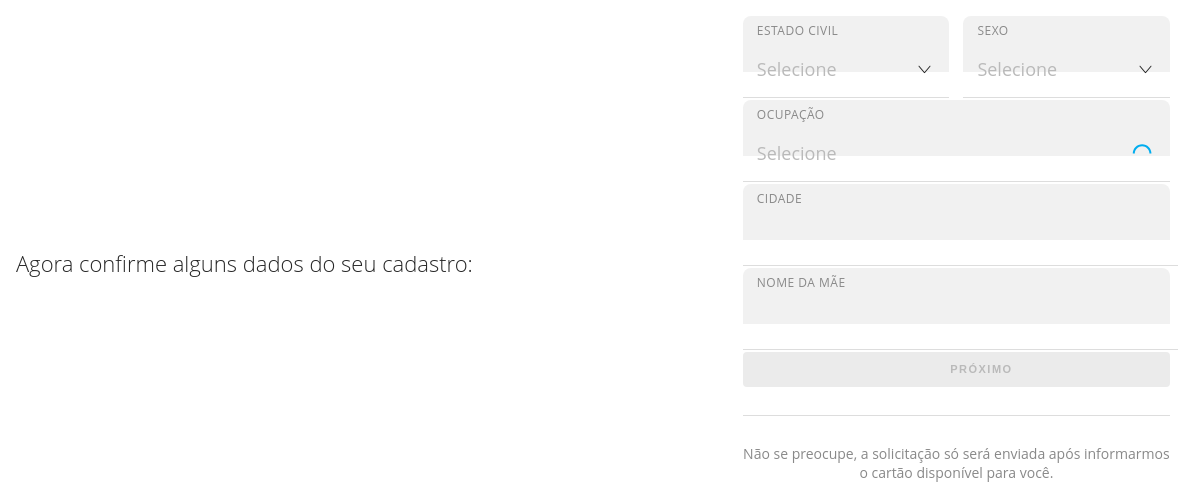
Test: Credit Card Step 3 › should sex select the proper option when clicked
The width and height of the screenshot is (1178, 499).
Step 1. Click the element with test id "select-sexo" → (1067, 44), box [963,16,1170,72]
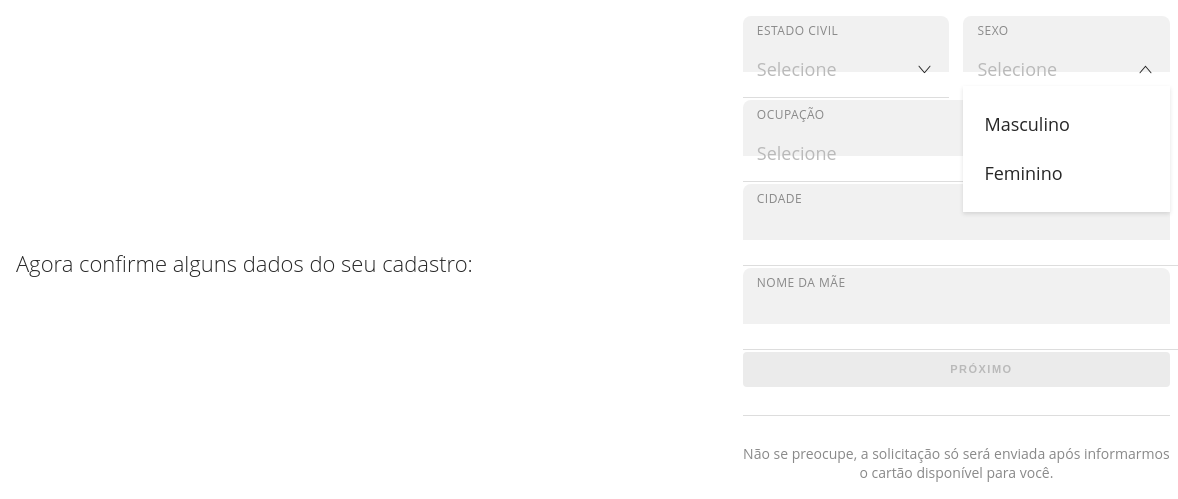
Step 2. Click the element with test id "option-Masculino" → (1067, 124), box [963,100,1170,149]
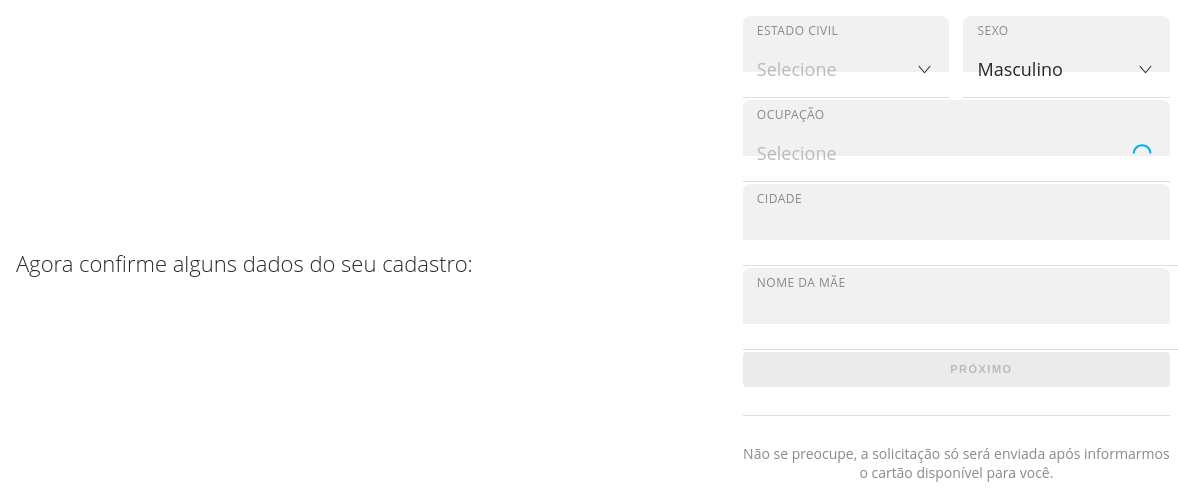
Expected: the field with test id "select-option-input-sex" holds "Masculino", [970,41,1135,97]
Step 3. Click the element with test id "select-sexo" → (1067, 44), box [963,16,1170,72]
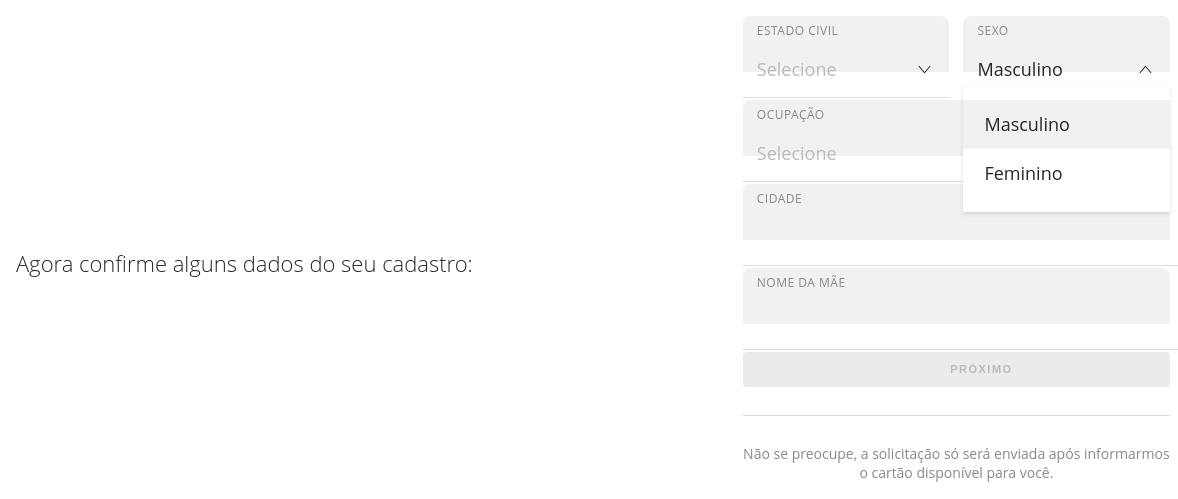
Step 4. Click the element with test id "option-Feminino" → (1067, 174), box [963,149,1170,198]
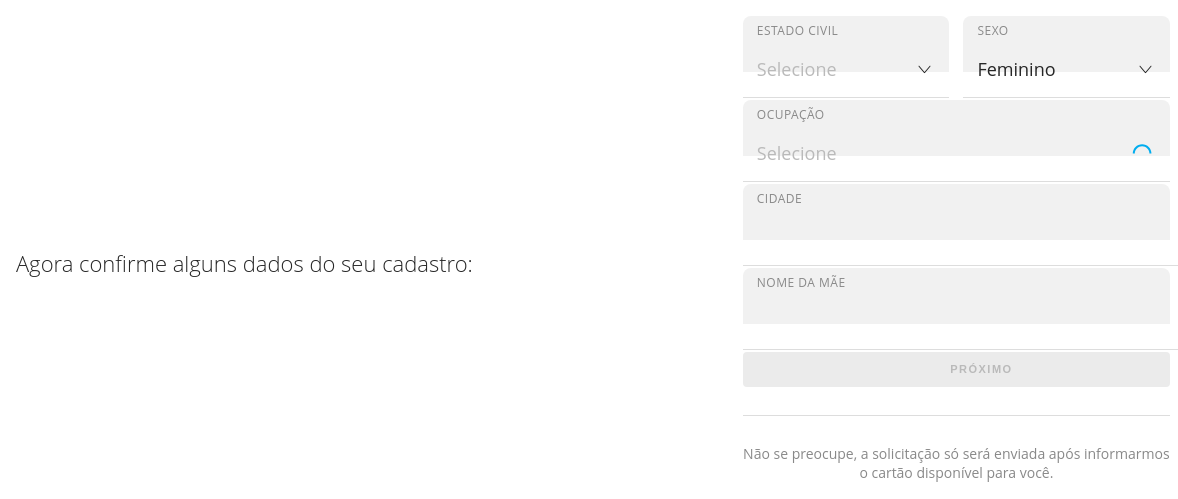
Expected: the field with test id "select-option-input-sex" holds "Feminino", [970,41,1135,97]
